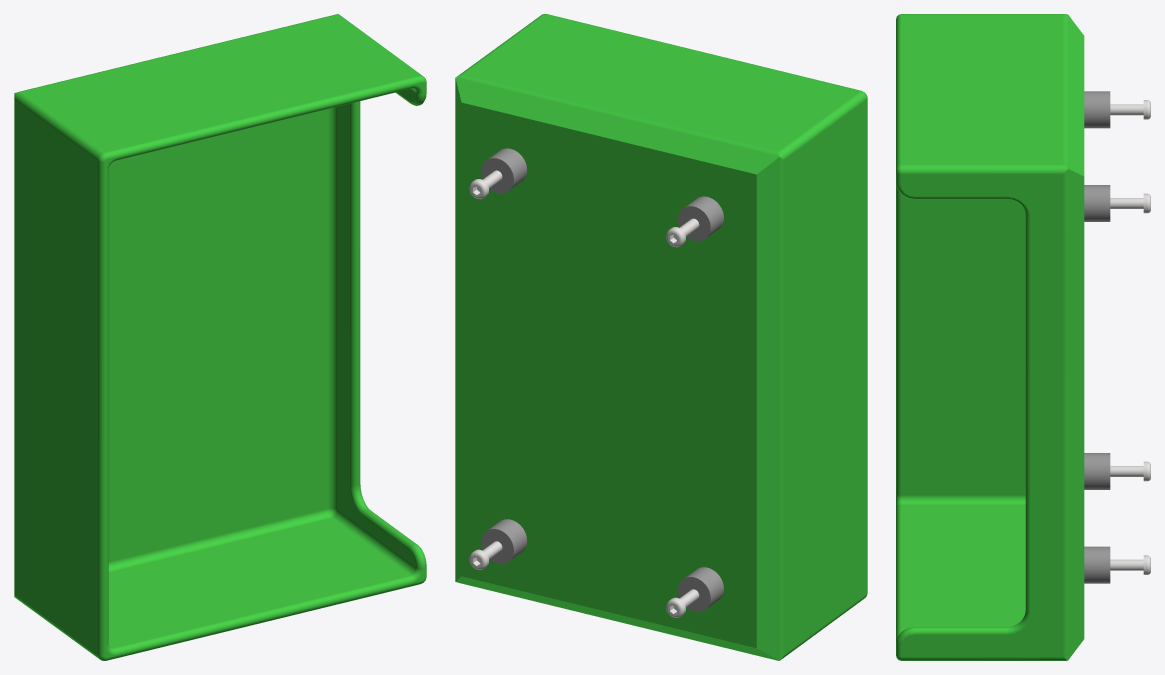
The model's file is canecaVerde.dae.
The picture shows the model from 3 angles, left to right: view 1: azimuth 30°, elevation 25°; view 2: azimuth 150°, elevation 25°; view 3: azimuth 270°, elevation 25°; orthographic projection. The views are drawn at different scales.
Visible parts, largest first — view 1: ensambleCanecaTapaSlideVerde; view 2: ensambleCanecaTapaSlideVerde; view 3: ensambleCanecaTapaSlideVerde.
Boxes of the visible parts, x1=… form: ensambleCanecaTapaSlideVerde: x1=14, y1=14, x2=426, y2=660; ensambleCanecaTapaSlideVerde: x1=455, y1=14, x2=867, y2=660; ensambleCanecaTapaSlideVerde: x1=896, y1=14, x2=1150, y2=660.
Size of the model in its own units: 100 by 69 by 148.
